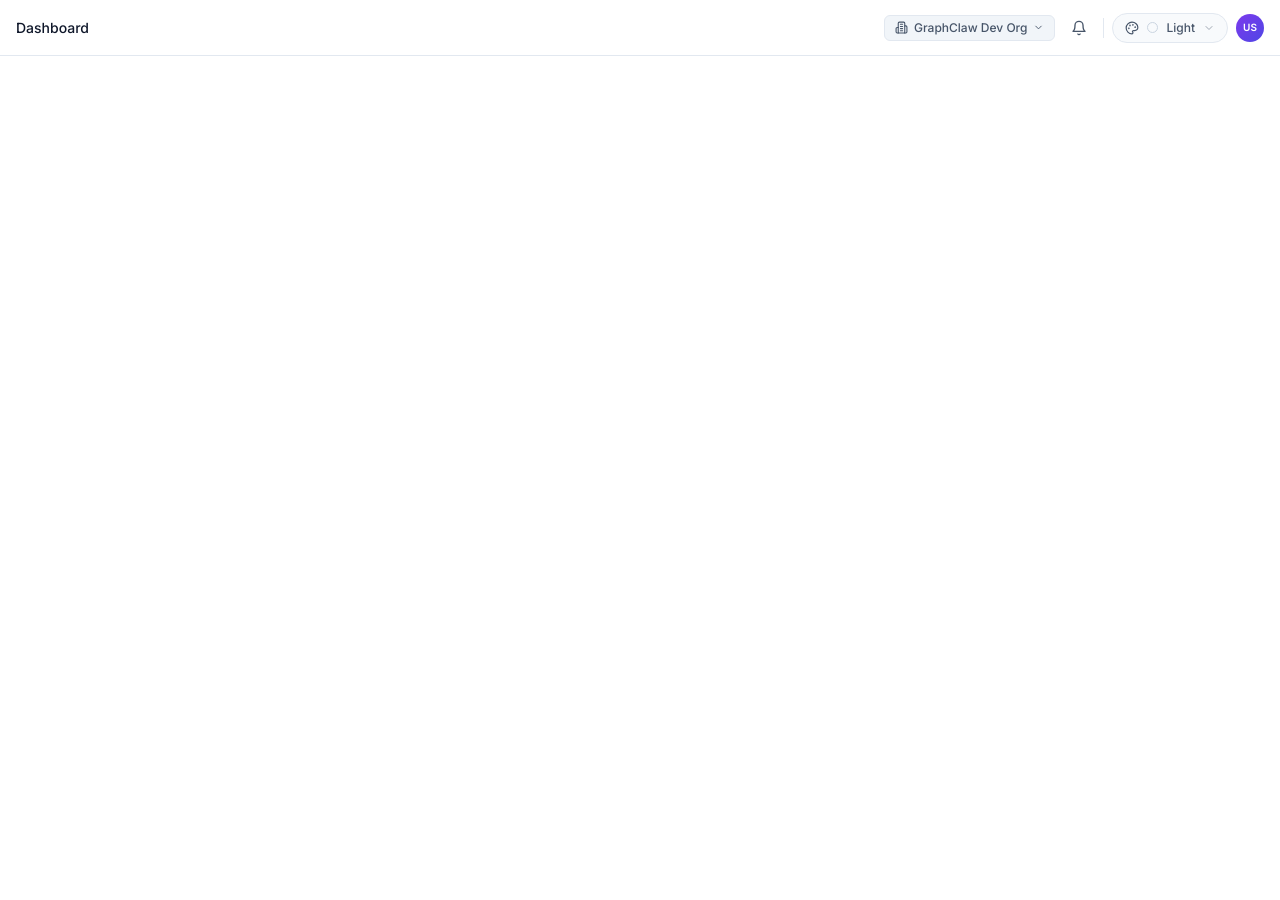
Test case: Topbar › closes notification panel on close button click
This screenshot has width=1280, height=900.
Click the button with test id "notification-bell" at (1080,28), box [1064,12,1096,44]
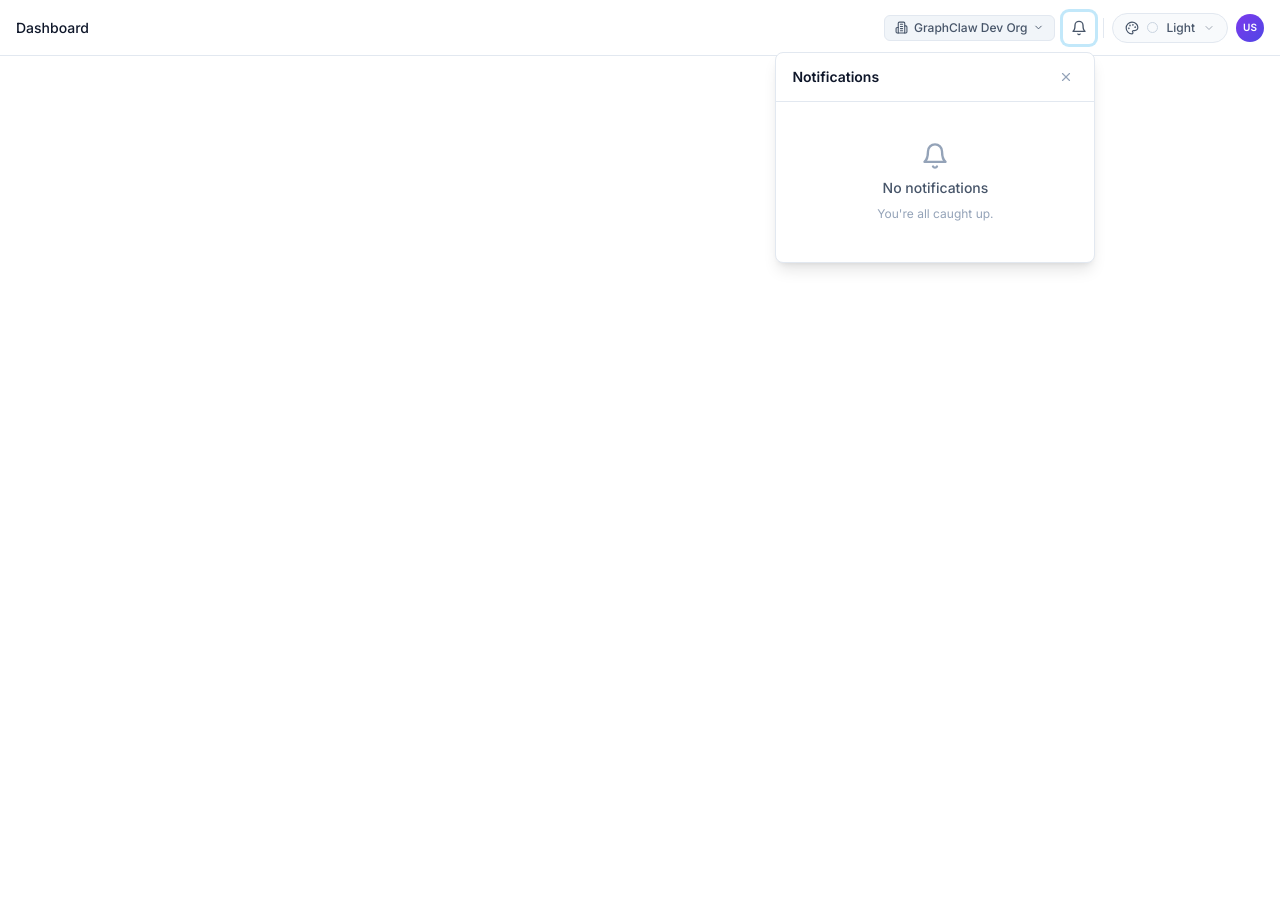
Click the button named "Close notifications" at (1066,76), box [1054,64,1078,88]
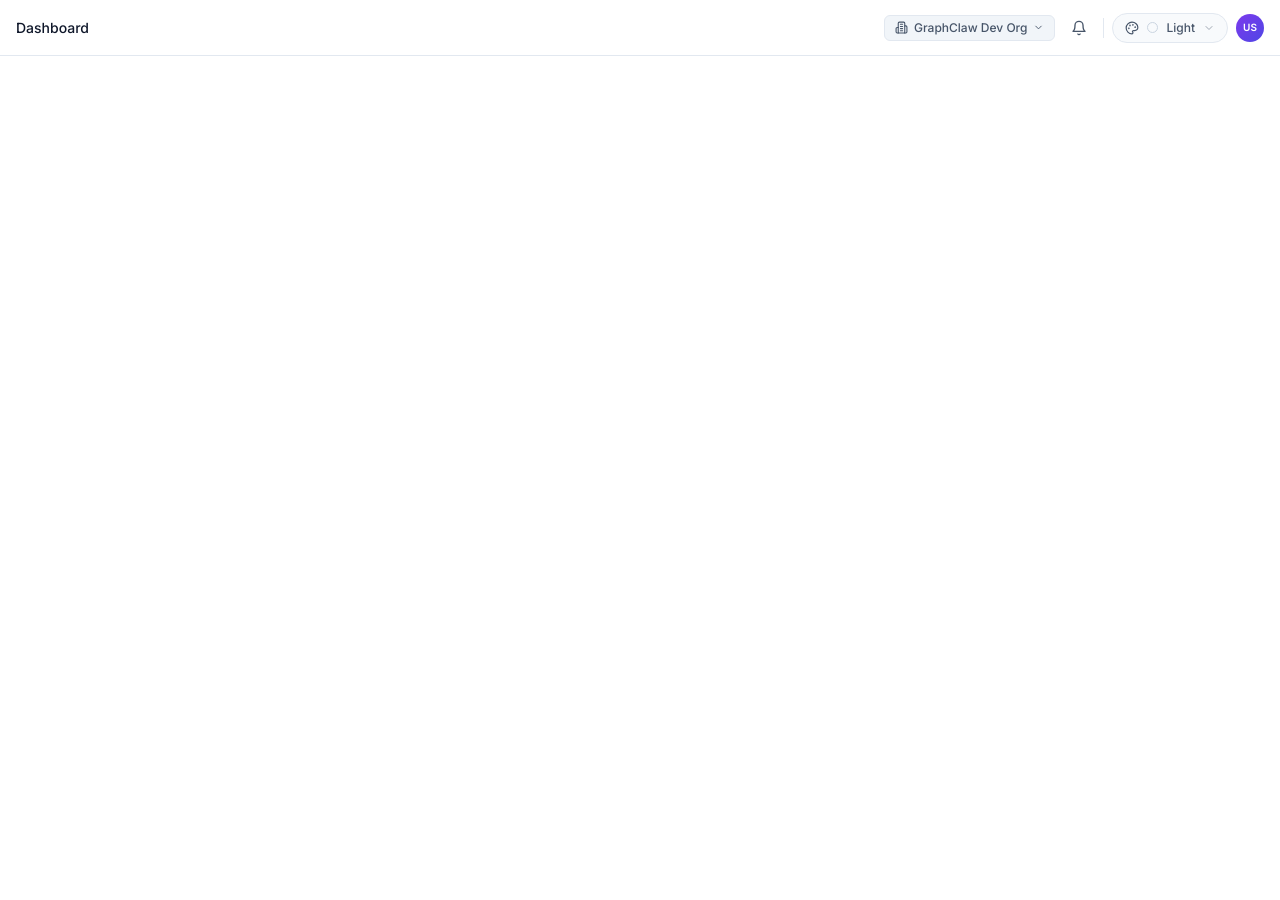
Check: the dialog with test id "notification-panel" is gone
